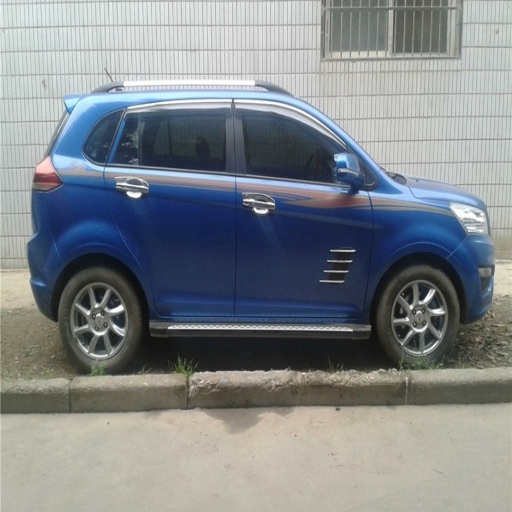back_right_door: (105, 96, 234, 317)
front_right_door: (235, 96, 373, 317)
